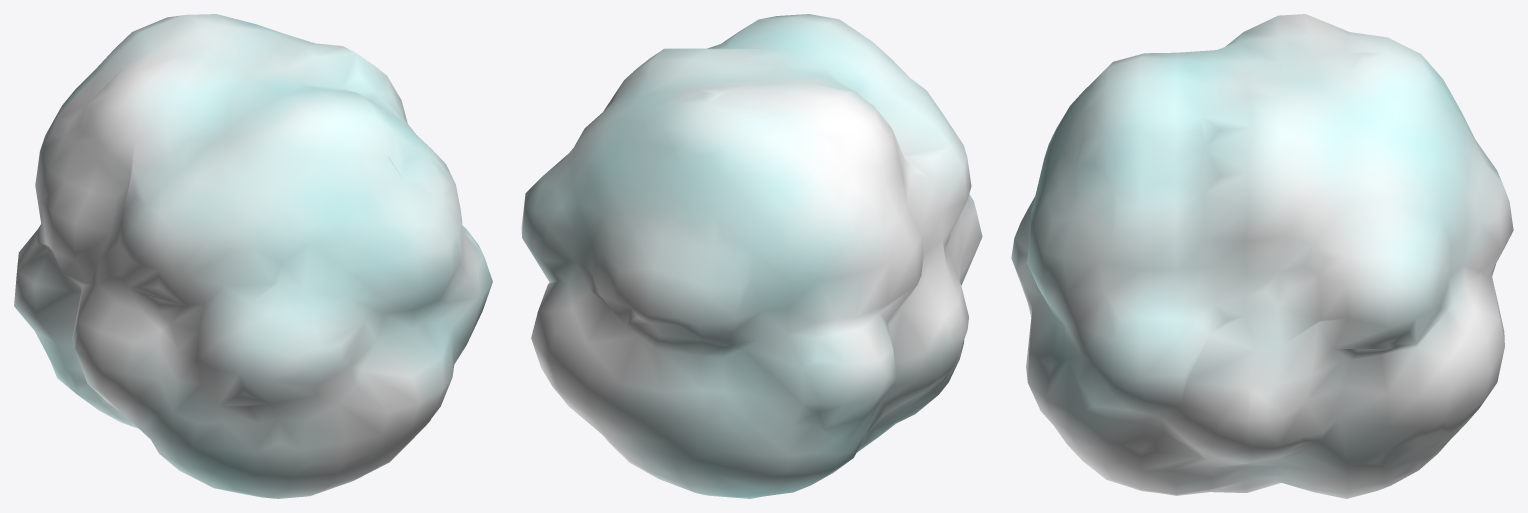
Rendered from cloud.fbx.
The picture shows the model from 3 angles, left to right: view 1: azimuth 30°, elevation 25°; view 2: azimuth 150°, elevation 25°; view 3: azimuth 270°, elevation 25°; orthographic projection. The views are drawn at different scales.
Parts seen in each view (by area): view 1: Mesh.014; view 2: Mesh.014; view 3: Mesh.014.
Part boxes in pixels (bbox=[...]): Mesh.014: bbox=[14, 14, 492, 498]; Mesh.014: bbox=[521, 14, 982, 498]; Mesh.014: bbox=[1011, 14, 1513, 498].
Size of the model in its own units: 0.9997 by 1.02 by 1.08.
